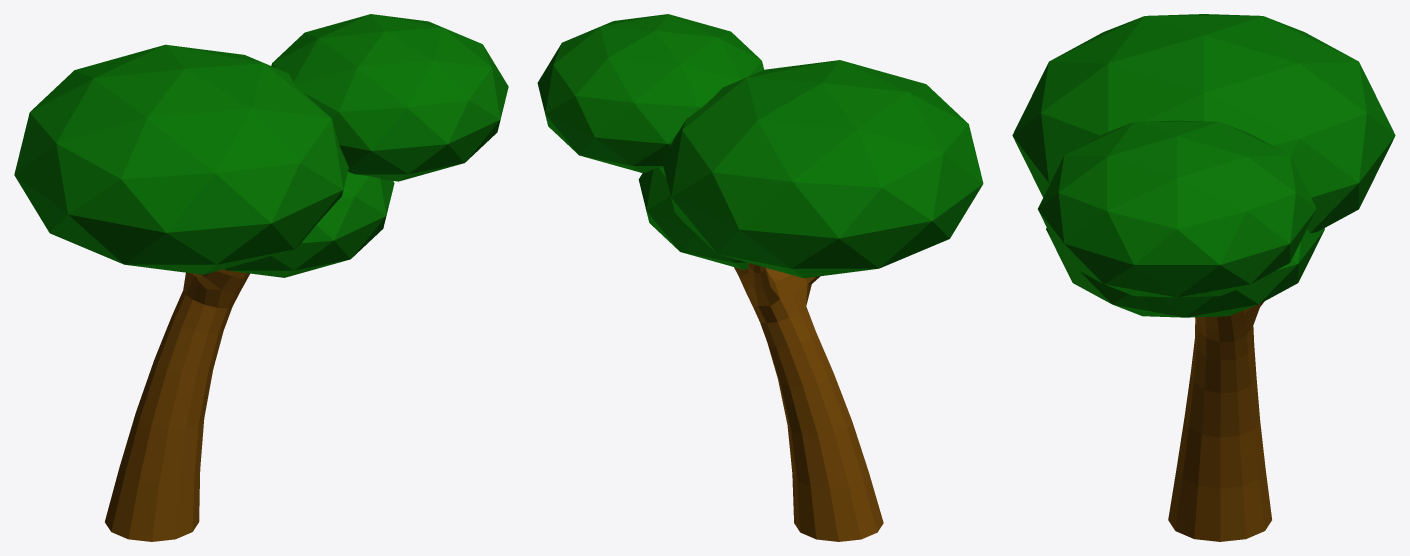
Rendered from tree 1.glb.
The picture shows the model from 3 angles, left to right: view 1: azimuth 30°, elevation 25°; view 2: azimuth 150°, elevation 25°; view 3: azimuth 270°, elevation 25°; orthographic projection. The views are drawn at different scales.
Parts seen in each view (by area): view 1: Cylinder; view 2: Cylinder; view 3: Cylinder.
Part boxes in pixels (x1,y1,x2,y2): Cylinder: (14,14,508,541); Cylinder: (537,14,983,541); Cylinder: (1012,14,1395,541).
Size of the model in its own units: 8.88 by 8.81 by 6.14.
